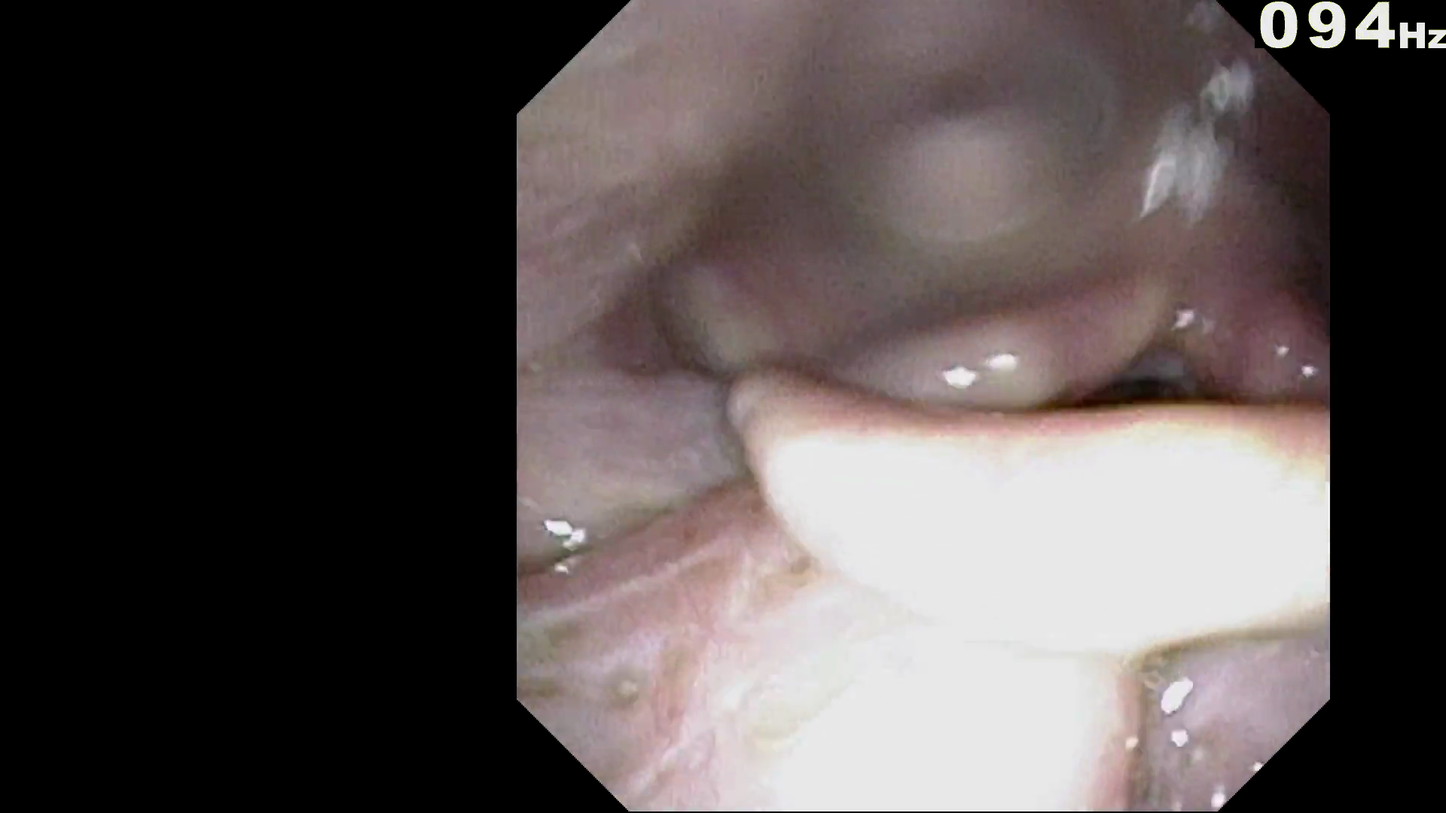epiglottis: (770, 411, 1306, 636)
trachea: (1058, 378, 1160, 463)
